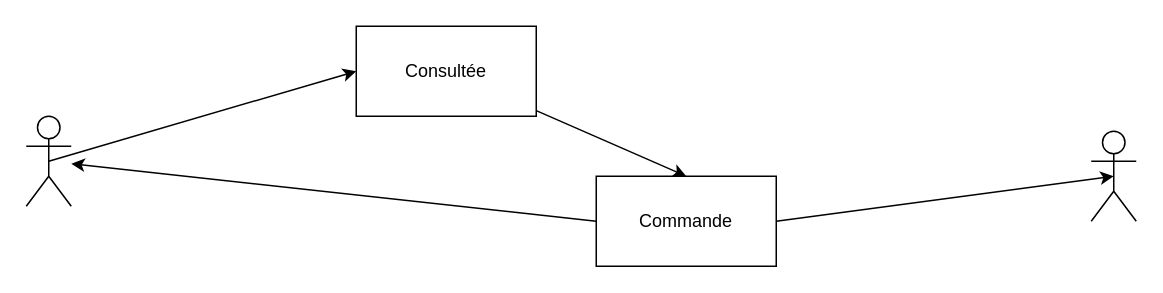
This 1163x293 diagram has some shape labels left out. The shapes that lost their labels are listed below. From the top down, each one's centre as x and y in pixels, then its label:
(48,160): Client
(1113,175): Stock
